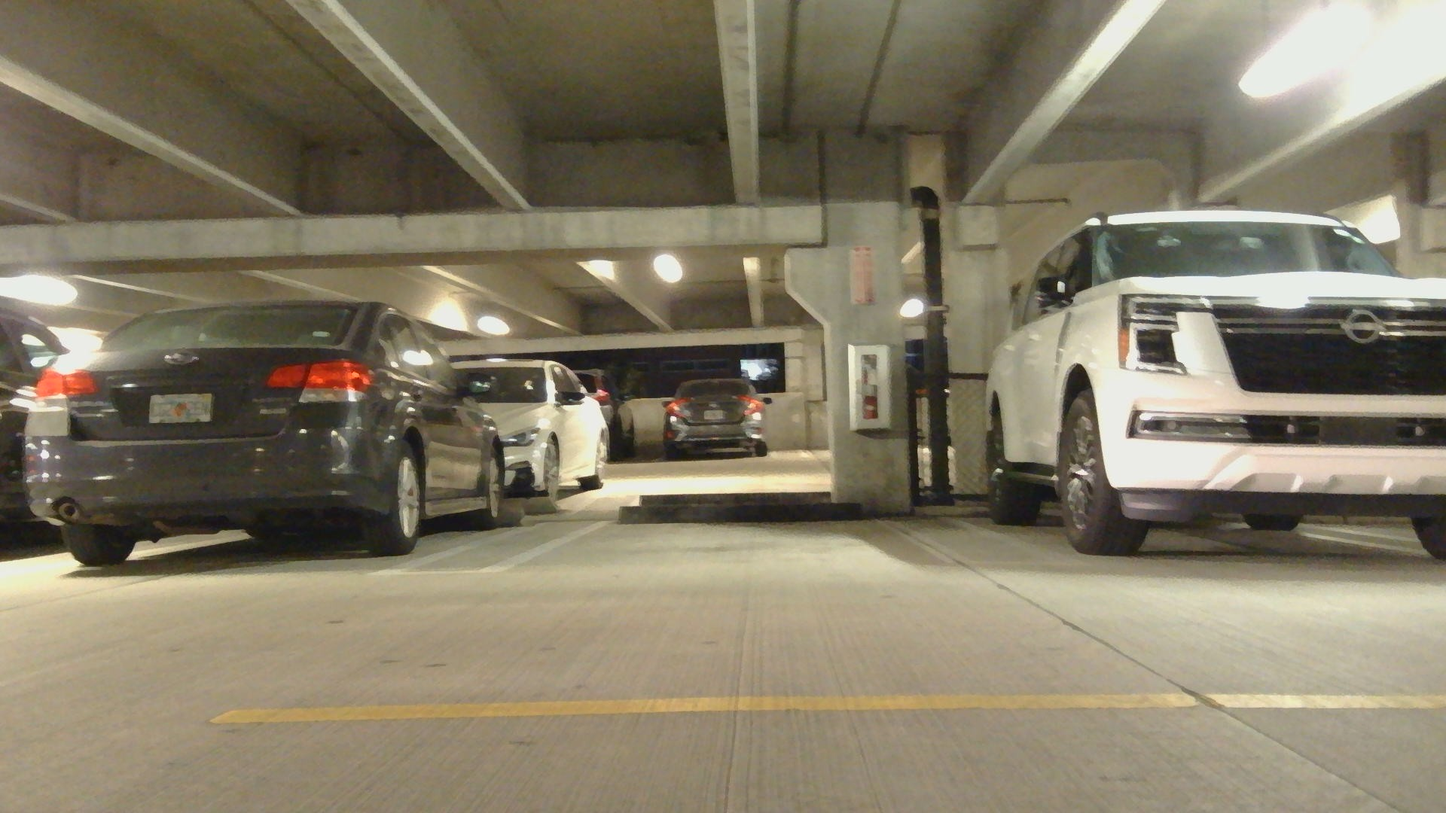empty_spot: (474, 488, 993, 586)
occupied_spot: (980, 205, 1446, 566), (21, 304, 509, 570)
